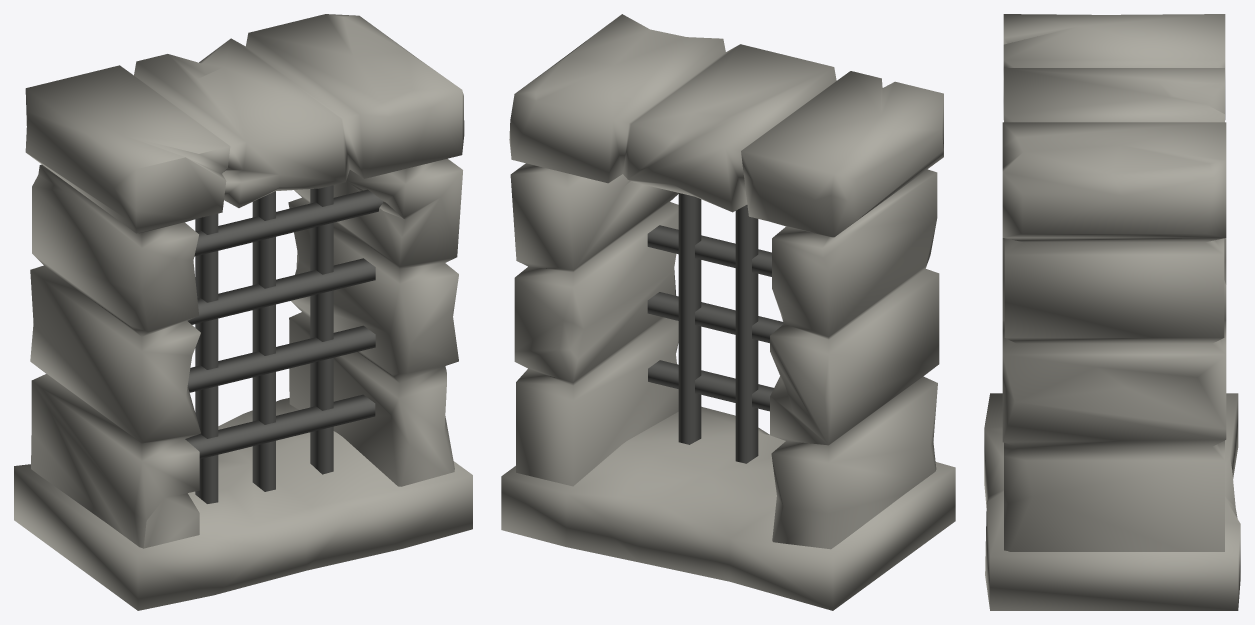
File: rpgpp_ag_window_06b.fbx
3 views of the same model, side by side, from view 1: azimuth 30°, elevation 25°; view 2: azimuth 150°, elevation 25°; view 3: azimuth 270°, elevation 25° (orthographic).
Visible parts, largest first — view 1: rpgpp_ag_window_06b; view 2: rpgpp_ag_window_06b; view 3: rpgpp_ag_window_06b.
Part boxes in pixels (x1,y1,x2,y2): rpgpp_ag_window_06b: (14, 14, 472, 610); rpgpp_ag_window_06b: (501, 14, 955, 610); rpgpp_ag_window_06b: (984, 14, 1240, 610).
Bounding box in the file's own units: 1.23 × 1.46 × 0.7712.
